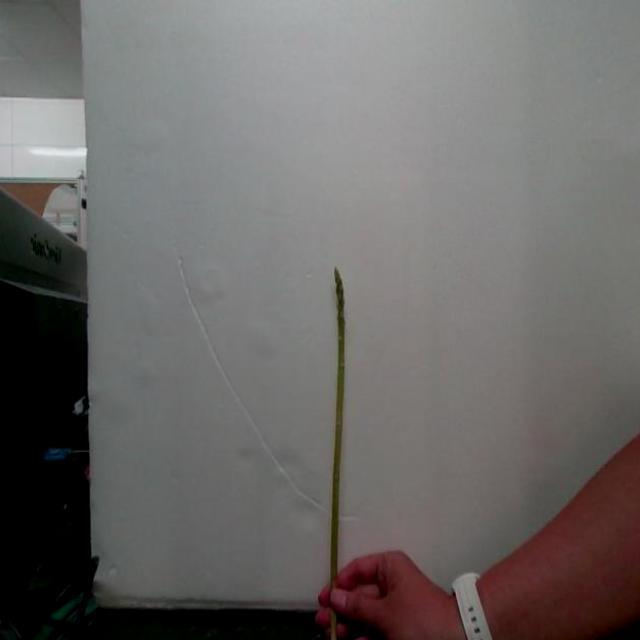aspargus: (331, 271, 347, 584)
